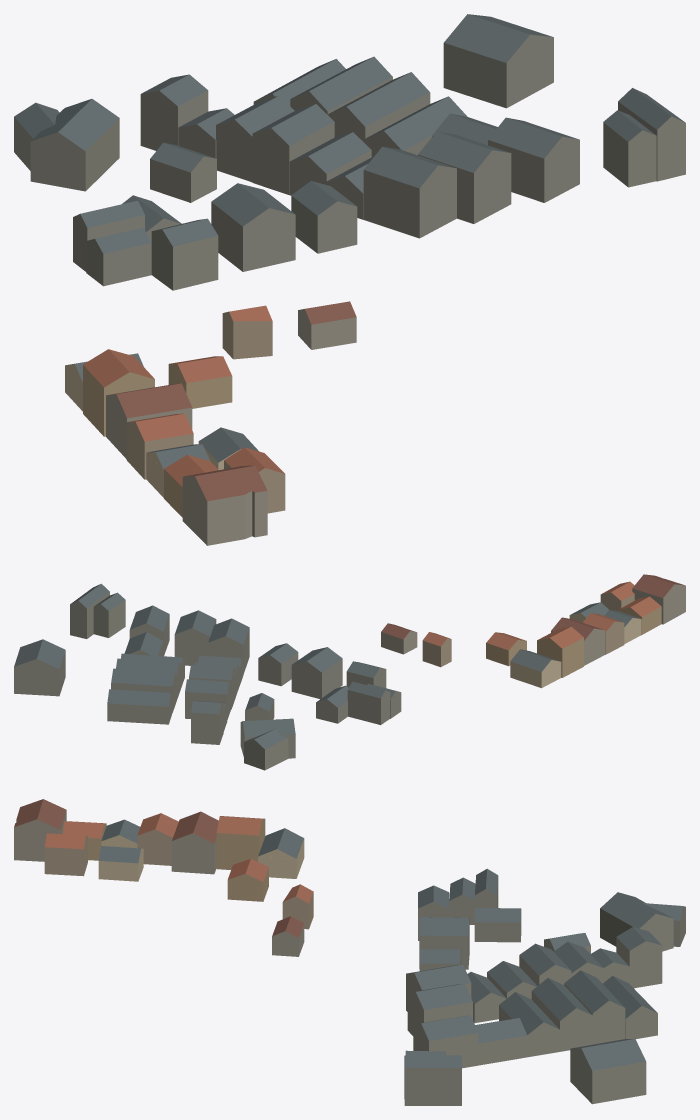
The picture shows the model from 3 angles, top to bottom: view 1: azimuth 30°, elevation 25°; view 2: azimuth 150°, elevation 25°; view 3: azimuth 270°, elevation 25°; orthographic projection. The views are drawn at different scales.
Visible parts, largest first — view 1: C_-1_4; view 2: C_-1_4; view 3: C_-1_4.
Part boxes in pixels (box(x1,y1,x2,y2)): C_-1_4: box(14, 14, 685, 545); C_-1_4: box(14, 574, 685, 770); C_-1_4: box(14, 799, 685, 1105).
Bounding box in the file's own units: 179 × 14.85 × 191.
